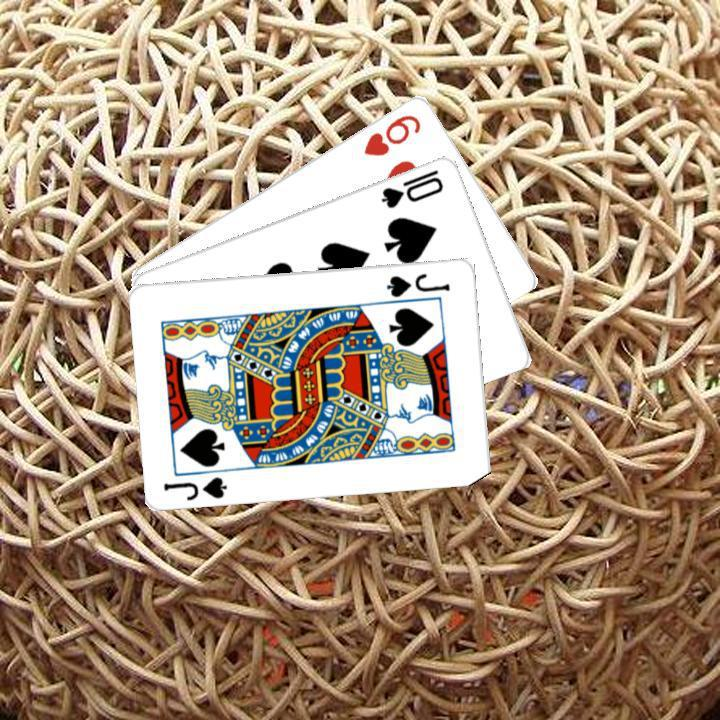10: (377, 164, 446, 210)
6: (359, 109, 423, 158)
J: (382, 268, 452, 299), (160, 472, 229, 502)
